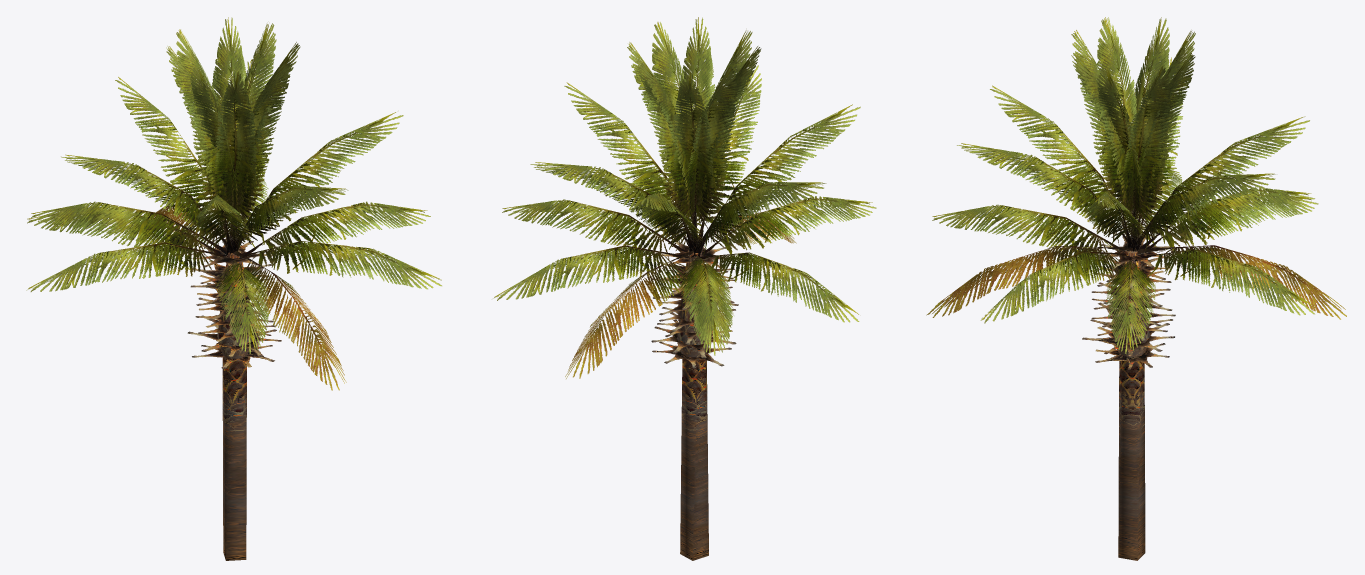
Rendered from flora_tree_date_palm_v3.glb.
The picture shows the model from 3 angles, left to right: view 1: azimuth 30°, elevation 25°; view 2: azimuth 150°, elevation 25°; view 3: azimuth 270°, elevation 25°; orthographic projection.
Visible parts, largest first — view 1: flora_tree_date_palm_v3_part0; view 2: flora_tree_date_palm_v3_part0; view 3: flora_tree_date_palm_v3_part0.
Boxes of the visible parts, x1,y1,x2,y2 form: flora_tree_date_palm_v3_part0: [26, 17, 441, 560]; flora_tree_date_palm_v3_part0: [493, 17, 876, 560]; flora_tree_date_palm_v3_part0: [926, 17, 1346, 560].
Bounding box in the file's own units: 12.16 × 15.37 × 11.65.
1 material, 1 textured.
